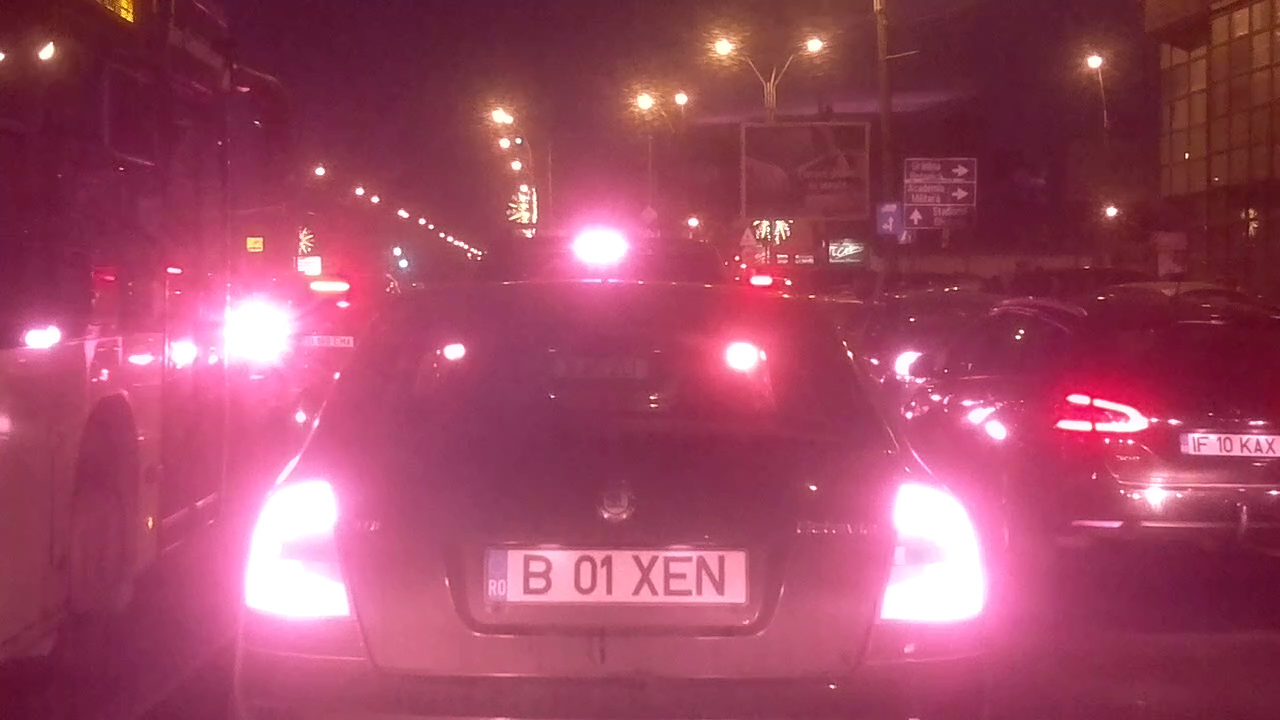license-plate: (477, 543, 754, 609), (1175, 429, 1280, 459)
